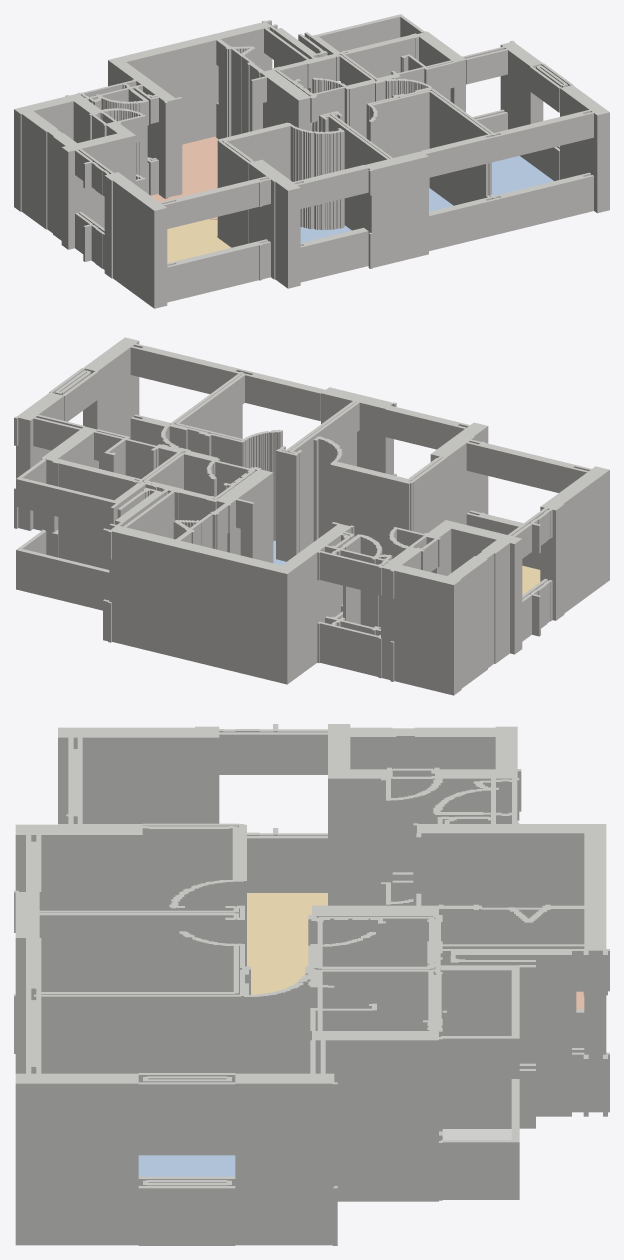
3 renders of one model, top to bottom at view 1: azimuth 30°, elevation 25°; view 2: azimuth 150°, elevation 25°; view 3: azimuth 270°, elevation 25°, orthographic. The views are drawn at different scales.
Visible parts, largest first — view 1: walls, room:kitchen:0, room:living:6, room:bedroom:5, room:bedroom:7; view 2: walls; view 3: walls, room:living:6, room:bedroom:5, room:ledge:3.
Boxes of the visible parts, left/top/right/bottom form: walls: left=14, top=14, right=609, bottom=308; room:kitchen:0: left=151, top=136, right=217, bottom=219; room:living:6: left=167, top=219, right=231, bottom=263; room:bedroom:5: left=492, top=156, right=553, bottom=195; room:bedroom:7: left=300, top=225, right=351, bottom=242; walls: left=14, top=337, right=609, bottom=695; walls: left=14, top=724, right=609, bottom=1245; room:living:6: left=247, top=893, right=327, bottom=994; room:bedroom:5: left=138, top=1155, right=235, bottom=1176; room:ledge:3: left=442, top=1129, right=511, bottom=1139.
Bounding box in the file's own units: 13.4 × 2.8 × 9.37.
